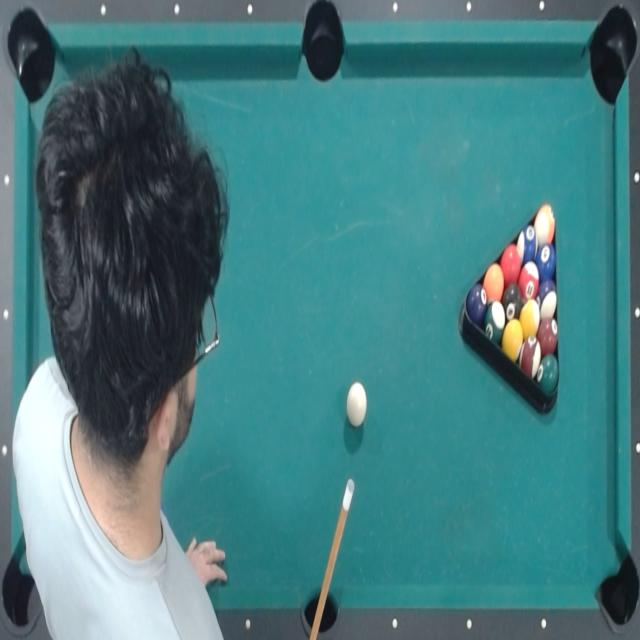black_8ball: (502, 282, 522, 322)
blue_solid: (536, 242, 558, 282)
blue_stripe: (515, 223, 538, 263)
cue_ball: (344, 380, 368, 429)
cue_body: (304, 502, 352, 640)
cue_tip: (341, 474, 356, 514)
green_solid: (537, 353, 560, 396)
green_stripe: (483, 300, 505, 345)
maroon_solid: (539, 318, 560, 352)
maroon_stripe: (519, 338, 541, 378)
orange_solid: (482, 262, 504, 305)
orange_stripe: (534, 204, 556, 244)
player_body: (10, 39, 240, 640)
player_hand: (177, 528, 232, 598)
purple_solid: (466, 285, 487, 323)
purple_stripe: (537, 281, 558, 321)
red_solid: (501, 244, 522, 284)
red_stripe: (517, 261, 541, 301)
yellow_solid: (501, 320, 523, 360)
yellow_stripe: (520, 300, 540, 338)
